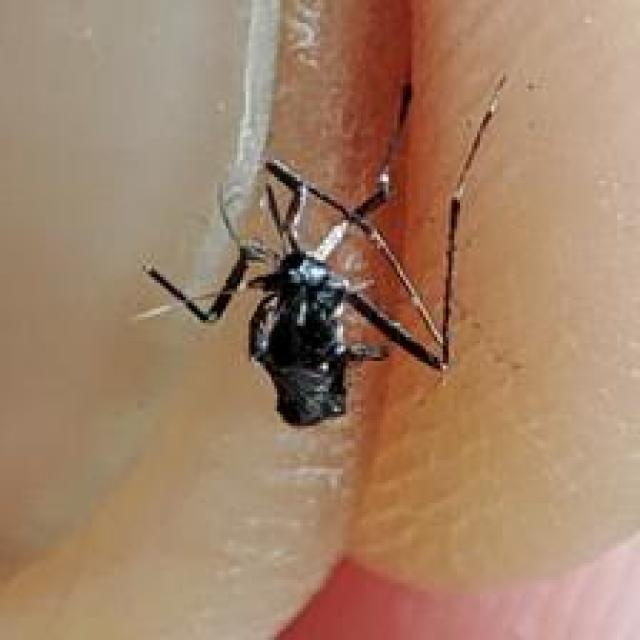Aedes albopictus: (136, 71, 507, 428)
